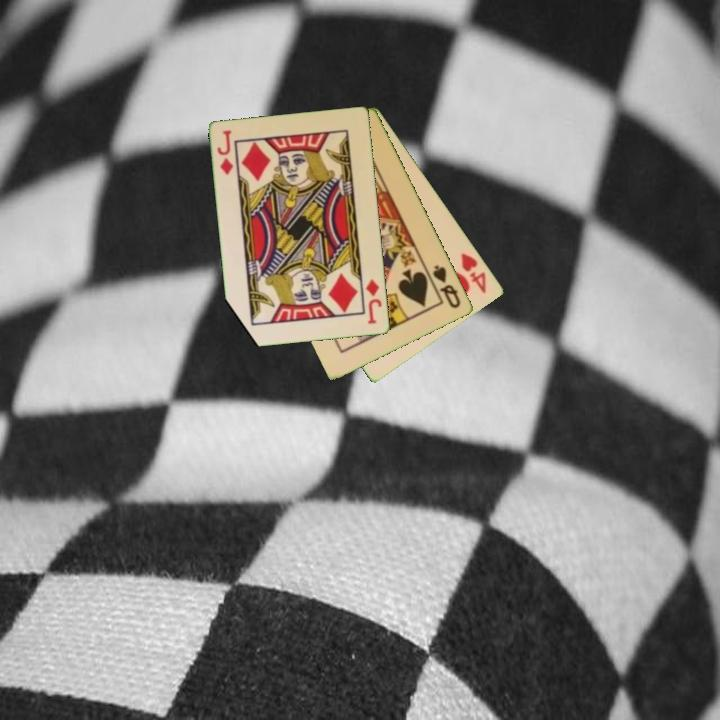4h: (458, 249, 490, 297)
Jd: (362, 276, 385, 327), (214, 127, 236, 178)
Qs: (430, 261, 464, 311)
